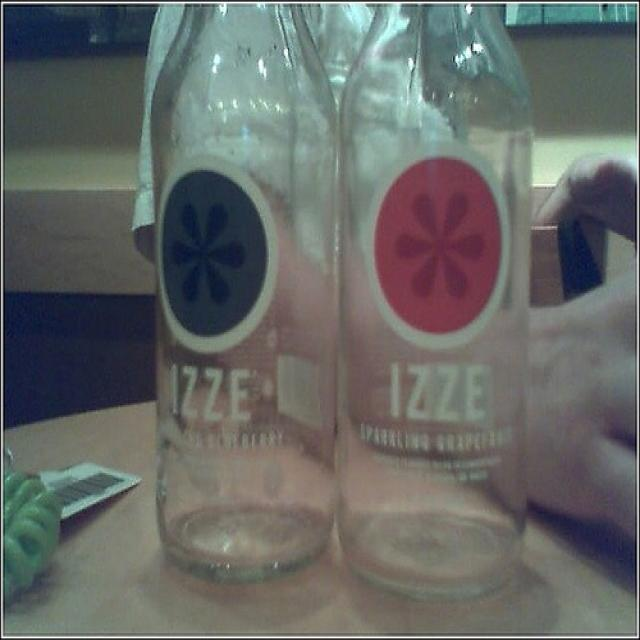bottle: (337, 0, 532, 597), (151, 0, 336, 580)
